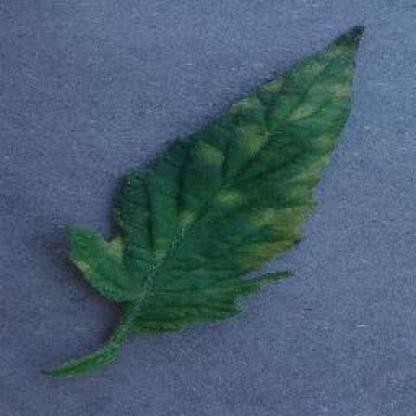Tomato_Leaf_Mold: (58, 26, 365, 329)
